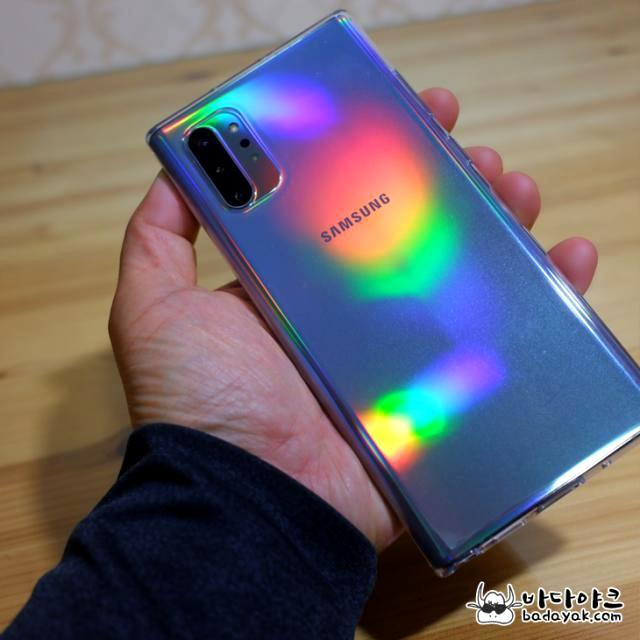lens_back: (188, 132, 218, 159), (227, 176, 248, 209), (210, 155, 232, 180)
phone: (157, 18, 640, 567)
